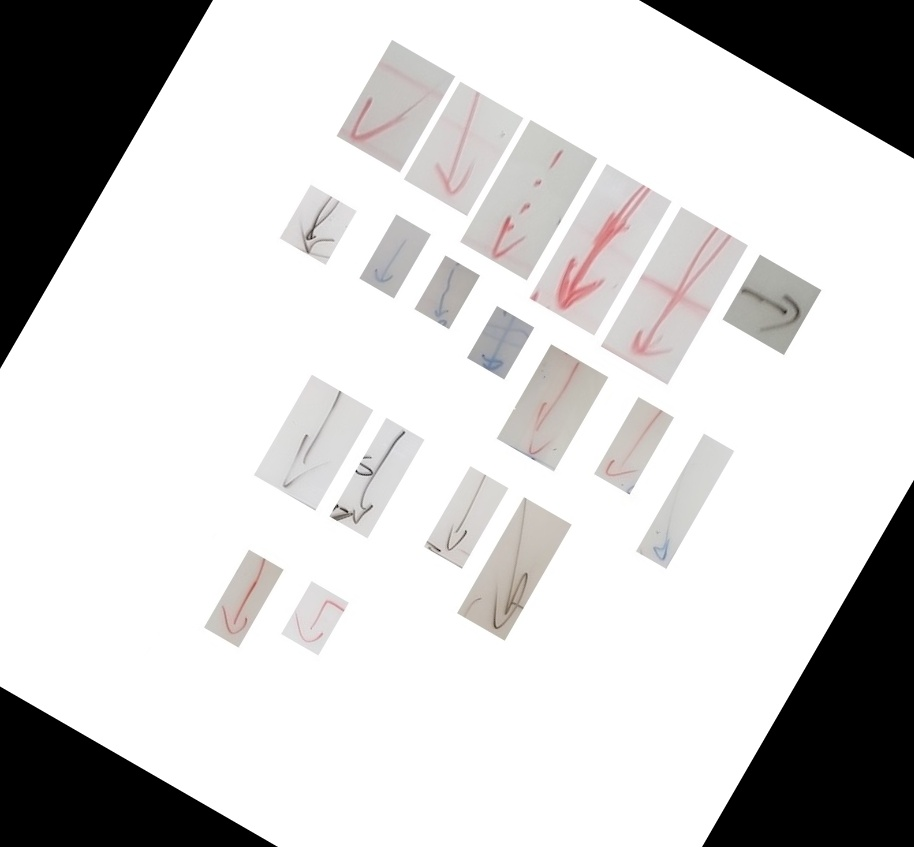arrow: (509, 290, 630, 393), (702, 326, 798, 446), (615, 310, 694, 447), (240, 480, 346, 571), (475, 449, 576, 536), (389, 191, 488, 275), (318, 164, 420, 232), (402, 564, 486, 632), (458, 608, 514, 706), (472, 252, 524, 342), (328, 519, 378, 605), (612, 578, 680, 637), (334, 310, 404, 367), (258, 281, 333, 330), (441, 401, 510, 449), (590, 488, 633, 564), (392, 347, 457, 397), (201, 648, 239, 713), (259, 682, 319, 722)
